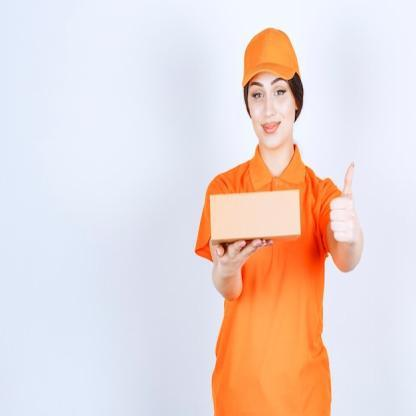thumb_up: (327, 158, 362, 251)
